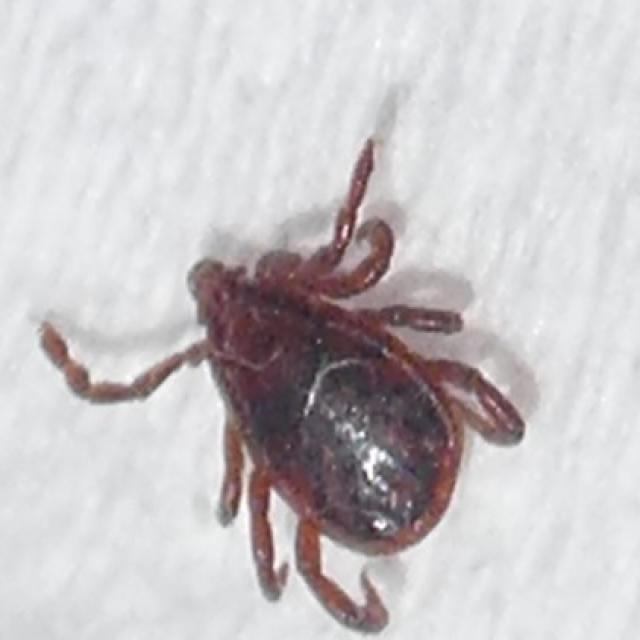Rhipicephalus Sanguineus-M: (38, 138, 528, 634)
